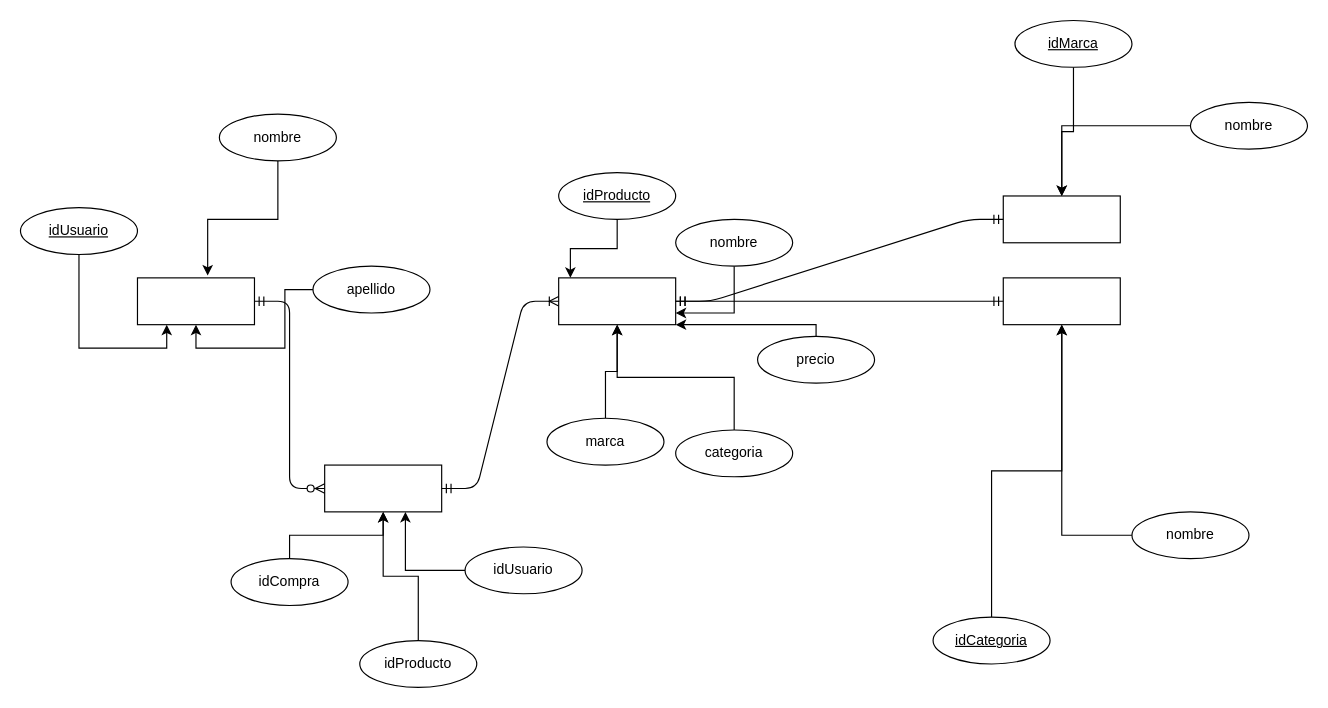
Image size: 1328x708. Some labels were removed from this diagram. Each missing label, with the box of its shape:
Categorias: (1002, 277, 1120, 325)
Compras: (324, 464, 442, 512)
Marcas: (1002, 195, 1120, 243)
Productos: (558, 277, 676, 325)
Usuarios: (136, 277, 254, 325)
